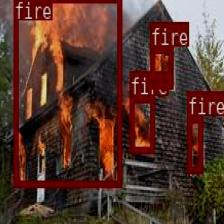fire: (12, 0, 121, 187), (129, 95, 154, 152), (150, 46, 172, 88), (186, 115, 202, 172)
